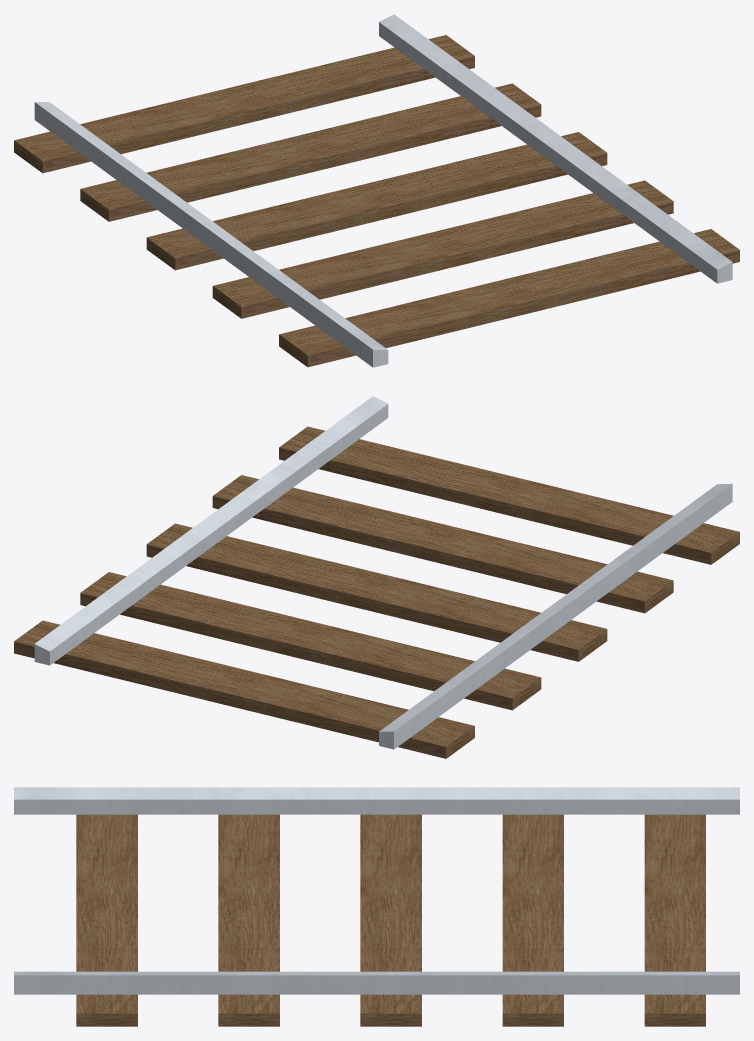
Rendered from rail_track.glb.
3 views of the same model, one above another, from view 1: azimuth 30°, elevation 25°; view 2: azimuth 150°, elevation 25°; view 3: azimuth 270°, elevation 25° (orthographic). The views are drawn at different scales.
Visible parts, largest first — view 1: Prop.rail_track; view 2: Prop.rail_track; view 3: Prop.rail_track.
Boxes of the visible parts, left/top/right/bottom form: Prop.rail_track: left=14, top=14, right=739, bottom=367; Prop.rail_track: left=14, top=396, right=739, bottom=758; Prop.rail_track: left=14, top=787, right=739, bottom=1026.
Bounding box in the file's own units: 2.26 × 0.15 × 3.07.
2 materials, 2 textured.
